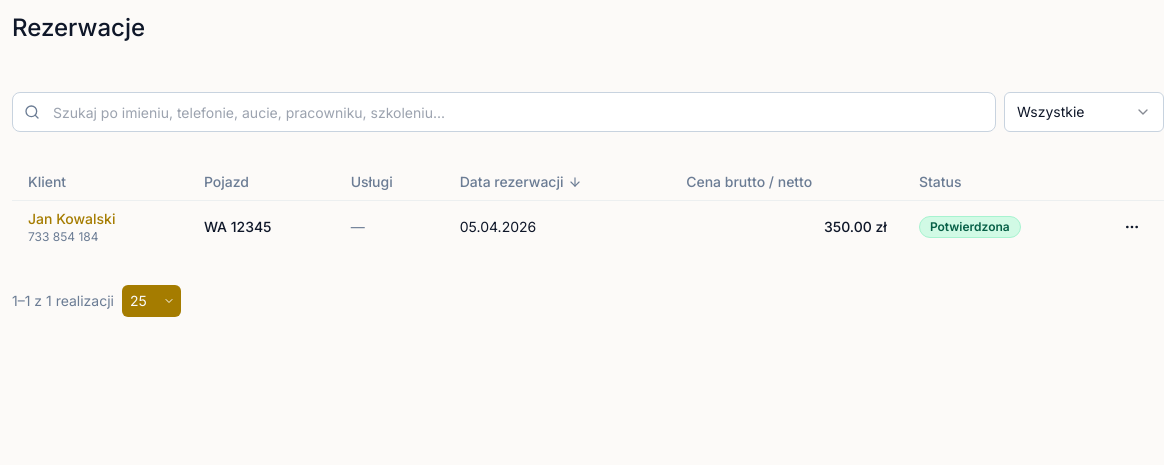
Test: ReservationsView › search filter › shows empty state when search matches nothing
Type "zzznotfound" into the field at (504, 112), box [12,92,996,132]
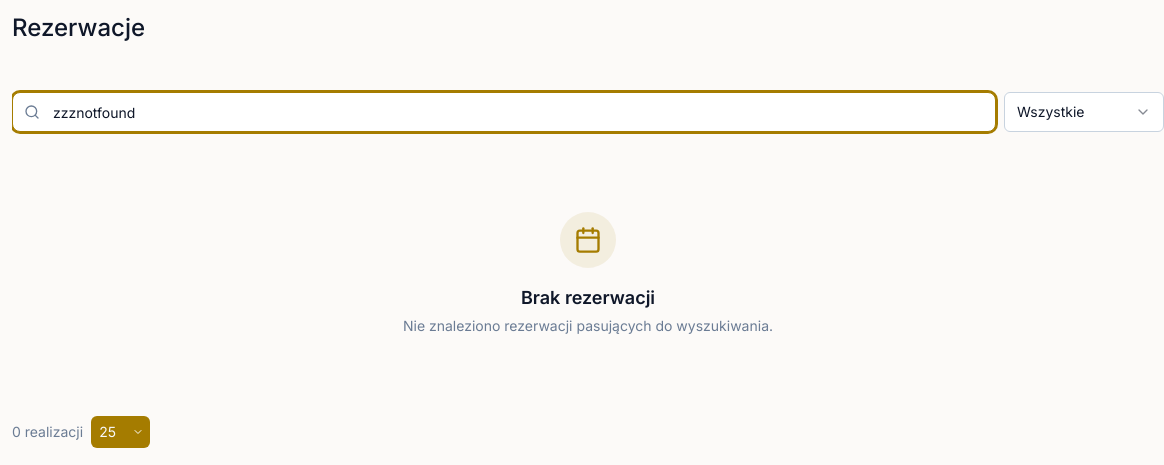
Check: the table is gone
